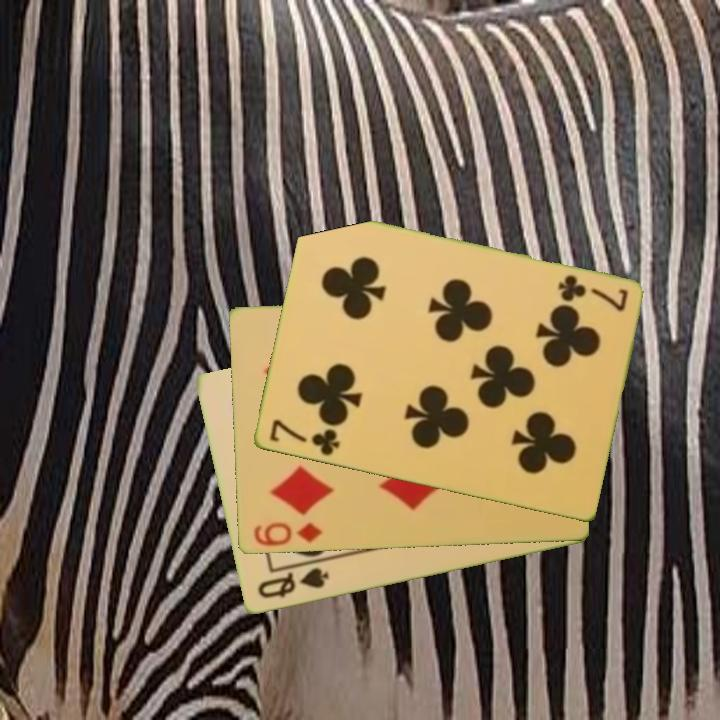6d: (250, 519, 324, 550)
7c: (553, 271, 630, 315), (265, 416, 342, 459)
Qs: (253, 564, 332, 602)
